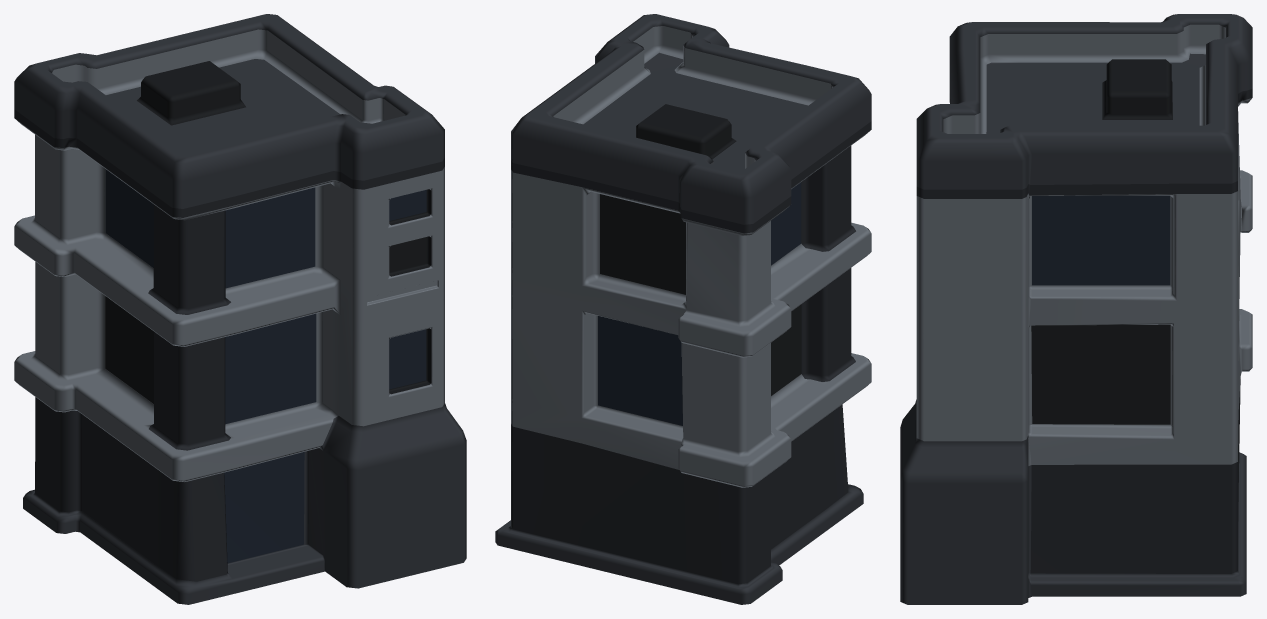
Rendered from 3_floors.fbx.
The picture shows the model from 3 angles, left to right: view 1: azimuth 30°, elevation 25°; view 2: azimuth 150°, elevation 25°; view 3: azimuth 270°, elevation 25°; orthographic projection. The views are drawn at different scales.
Visible parts, largest first — view 1: Cube.001; view 2: Cube.001; view 3: Cube.001.
Part boxes in pixels (<box>): Cube.001: <box>14,14,466,604</box>; Cube.001: <box>495,14,871,604</box>; Cube.001: <box>900,14,1252,604</box>.
Size of the model in its own units: 517 by 762 by 537.
